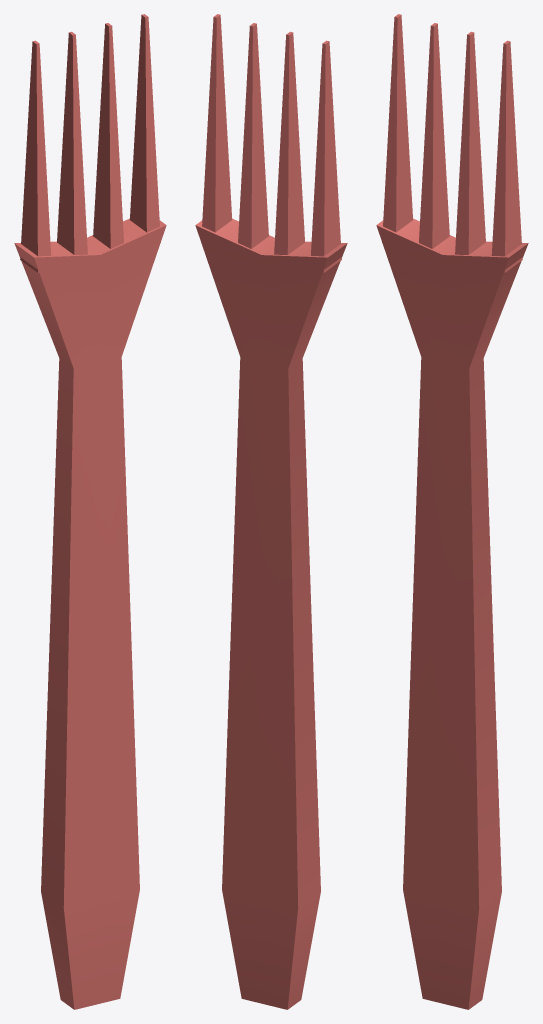
The model's file is 4 fork.fbx.
The picture shows the model from 3 angles, left to right: view 1: azimuth 30°, elevation 25°; view 2: azimuth 150°, elevation 25°; view 3: azimuth 330°, elevation 25°; orthographic projection.
Parts seen in each view (by area): view 1: 4 fork; view 2: 4 fork; view 3: 4 fork.
Boxes of the visible parts, bbox=[...] form: 4 fork: bbox=[14, 14, 166, 1009]; 4 fork: bbox=[195, 14, 347, 1009]; 4 fork: bbox=[376, 14, 528, 1009].
Size of the model in its own units: 1.84 by 12.85 by 0.5481.
